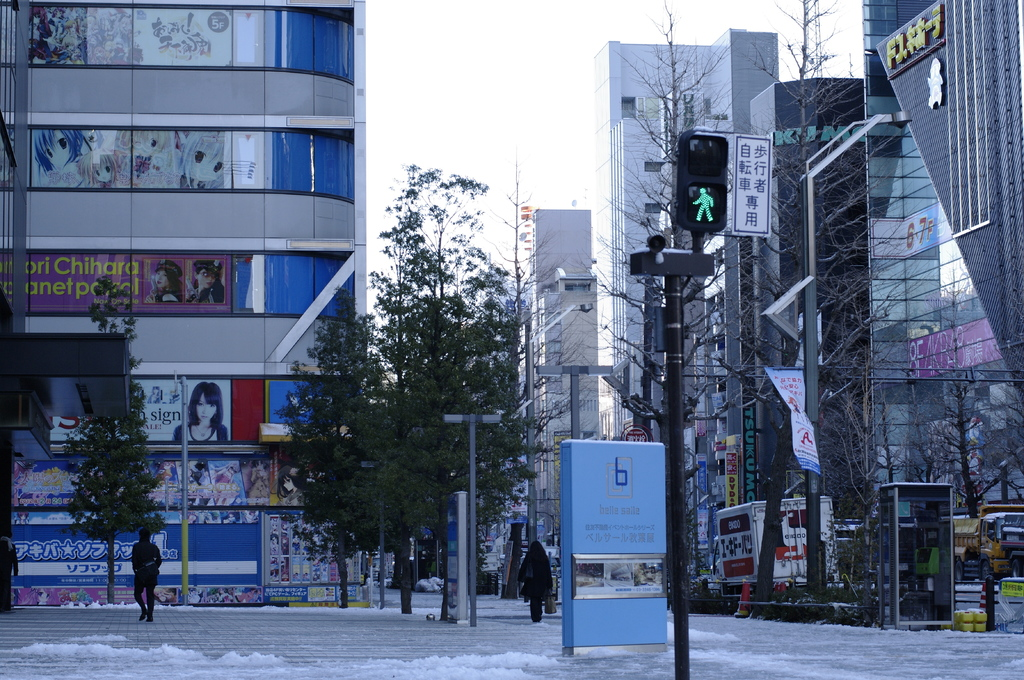Tree: (577, 0, 1023, 614), (297, 140, 528, 597), (60, 267, 162, 607)
